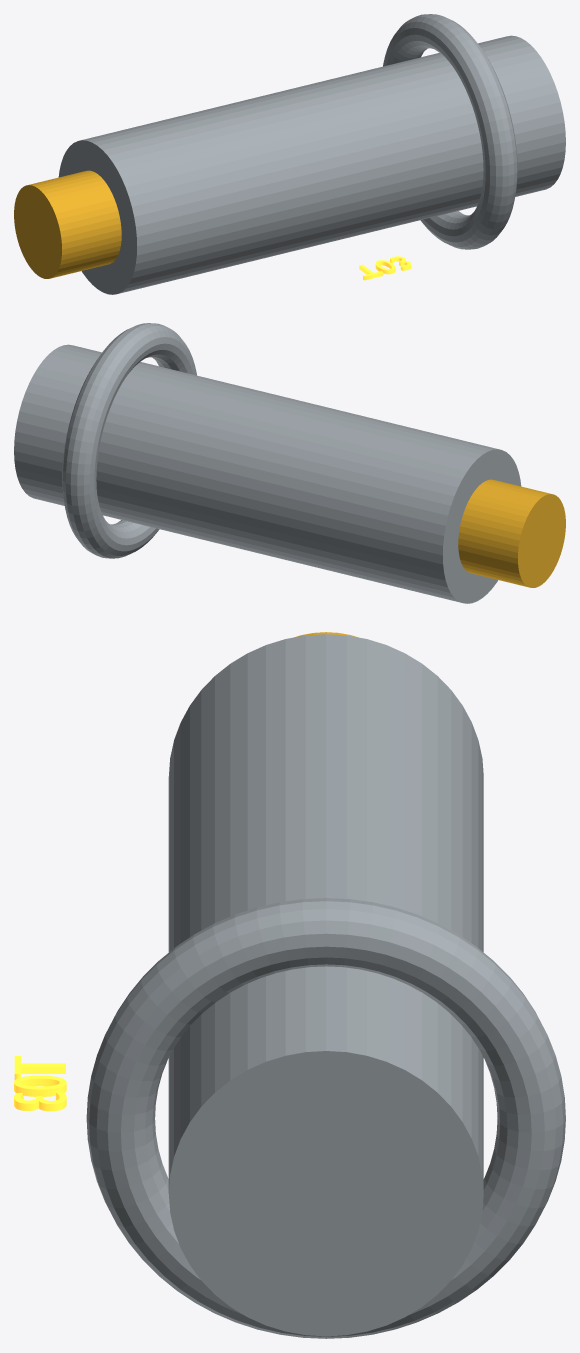
3 renders of one model, top to bottom at view 1: azimuth 30°, elevation 25°; view 2: azimuth 150°, elevation 25°; view 3: azimuth 270°, elevation 25°, orthographic. The views are drawn at different scales.
Visible parts, largest first — view 1: T03, T03_flange, T03_pullstud, LABEL_T03; view 2: T03, T03_flange, T03_pullstud; view 3: T03, T03_flange, LABEL_T03.
Part boxes in pixels (x1=…): T03: x1=58, y1=35, x2=565, y2=294; T03_flange: x1=383, y1=14, x2=517, y2=249; T03_pullstud: x1=14, y1=170, x2=121, y2=278; LABEL_T03: x1=359, y1=256, x2=411, y2=280; T03: x1=14, y1=344, x2=521, y2=603; T03_flange: x1=62, y1=323, x2=196, y2=558; T03_pullstud: x1=458, y1=479, x2=565, y2=587; T03: x1=168, y1=634, x2=483, y2=1336; T03_flange: x1=86, y1=898, x2=565, y2=1338; LABEL_T03: x1=14, y1=1056, x2=66, y2=1111.
Size of the model in its own units: 0.82 by 0.35 by 0.403.
